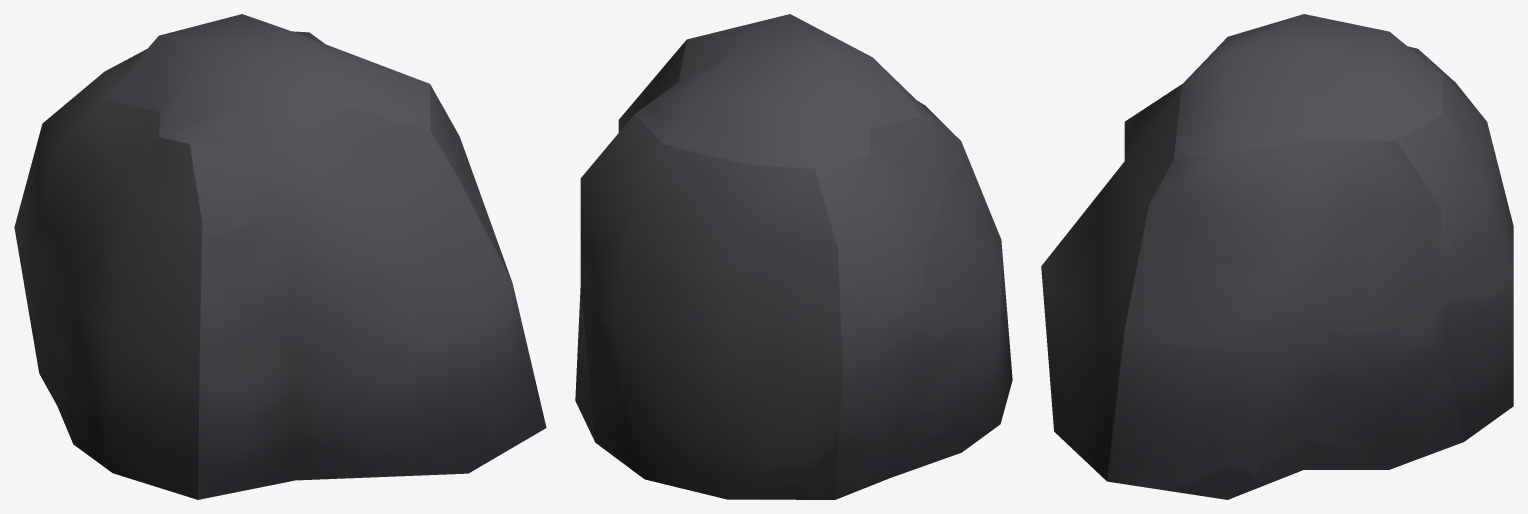
The model's file is iwa.fbx.
3 views of the same model, side by side, from view 1: azimuth 30°, elevation 25°; view 2: azimuth 150°, elevation 25°; view 3: azimuth 270°, elevation 25° (orthographic). The views are drawn at different scales.
Parts seen in each view (by area): view 1: Iwa; view 2: Iwa; view 3: Iwa.
Part boxes in pixels (box(x1,y1,x2,y2)): Iwa: box(14, 14, 546, 499); Iwa: box(575, 14, 1012, 499); Iwa: box(1041, 14, 1513, 499).
Bounding box in the file's own units: 13.38 × 11.3 × 13.73.
